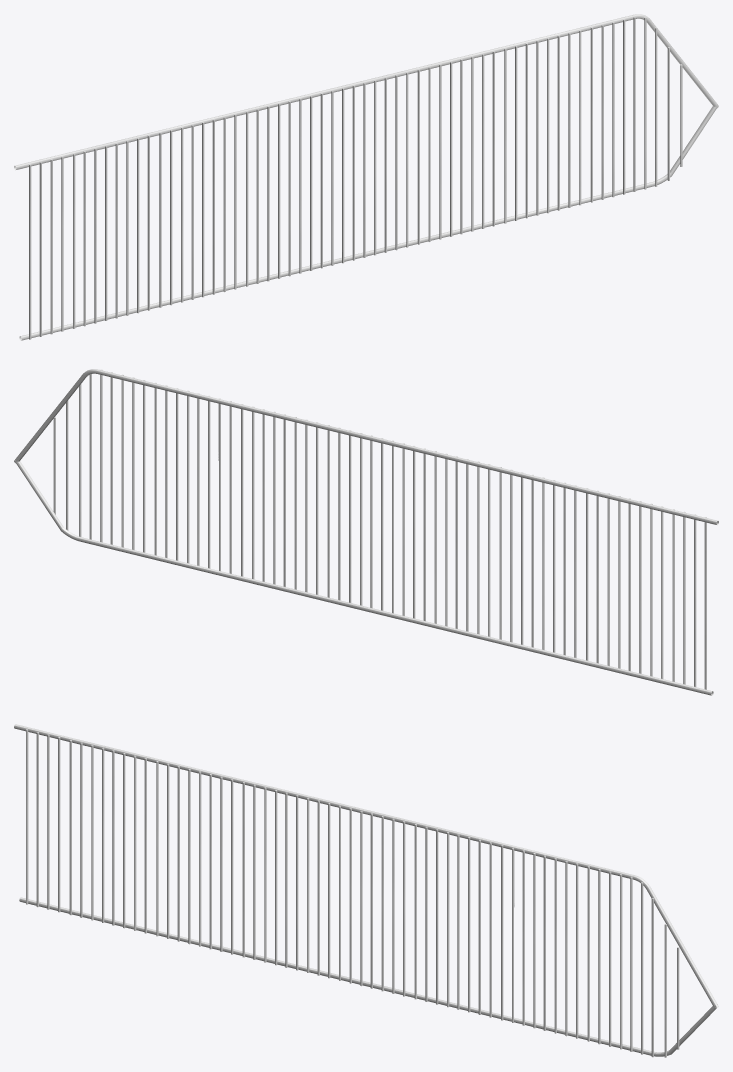
The model's file is ShelfBasketBaseIntersection.fbx.
3 renders of one model, top to bottom at view 1: azimuth 30°, elevation 25°; view 2: azimuth 150°, elevation 25°; view 3: azimuth 330°, elevation 25°, orthographic.
Parts seen in each view (by area): view 1: ShelfBasketBaseIntersection; view 2: ShelfBasketBaseIntersection; view 3: ShelfBasketBaseIntersection.
Part boxes in pixels (x1,y1,x2,y2): ShelfBasketBaseIntersection: (14,14,718,340); ShelfBasketBaseIntersection: (14,369,718,695); ShelfBasketBaseIntersection: (14,724,718,1057).
Size of what is drawn, in the model's own units: 67.8 by 0.5631 by 16.23.
1 material, 1 textured.
